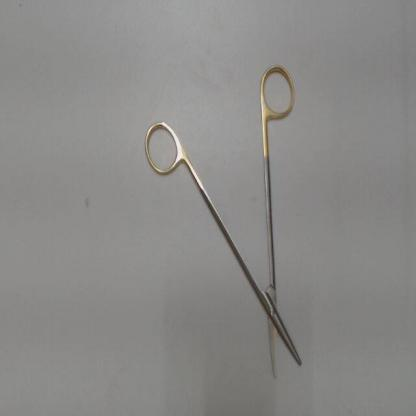7 Metzenbaum Scissors: (140, 59, 306, 383)
